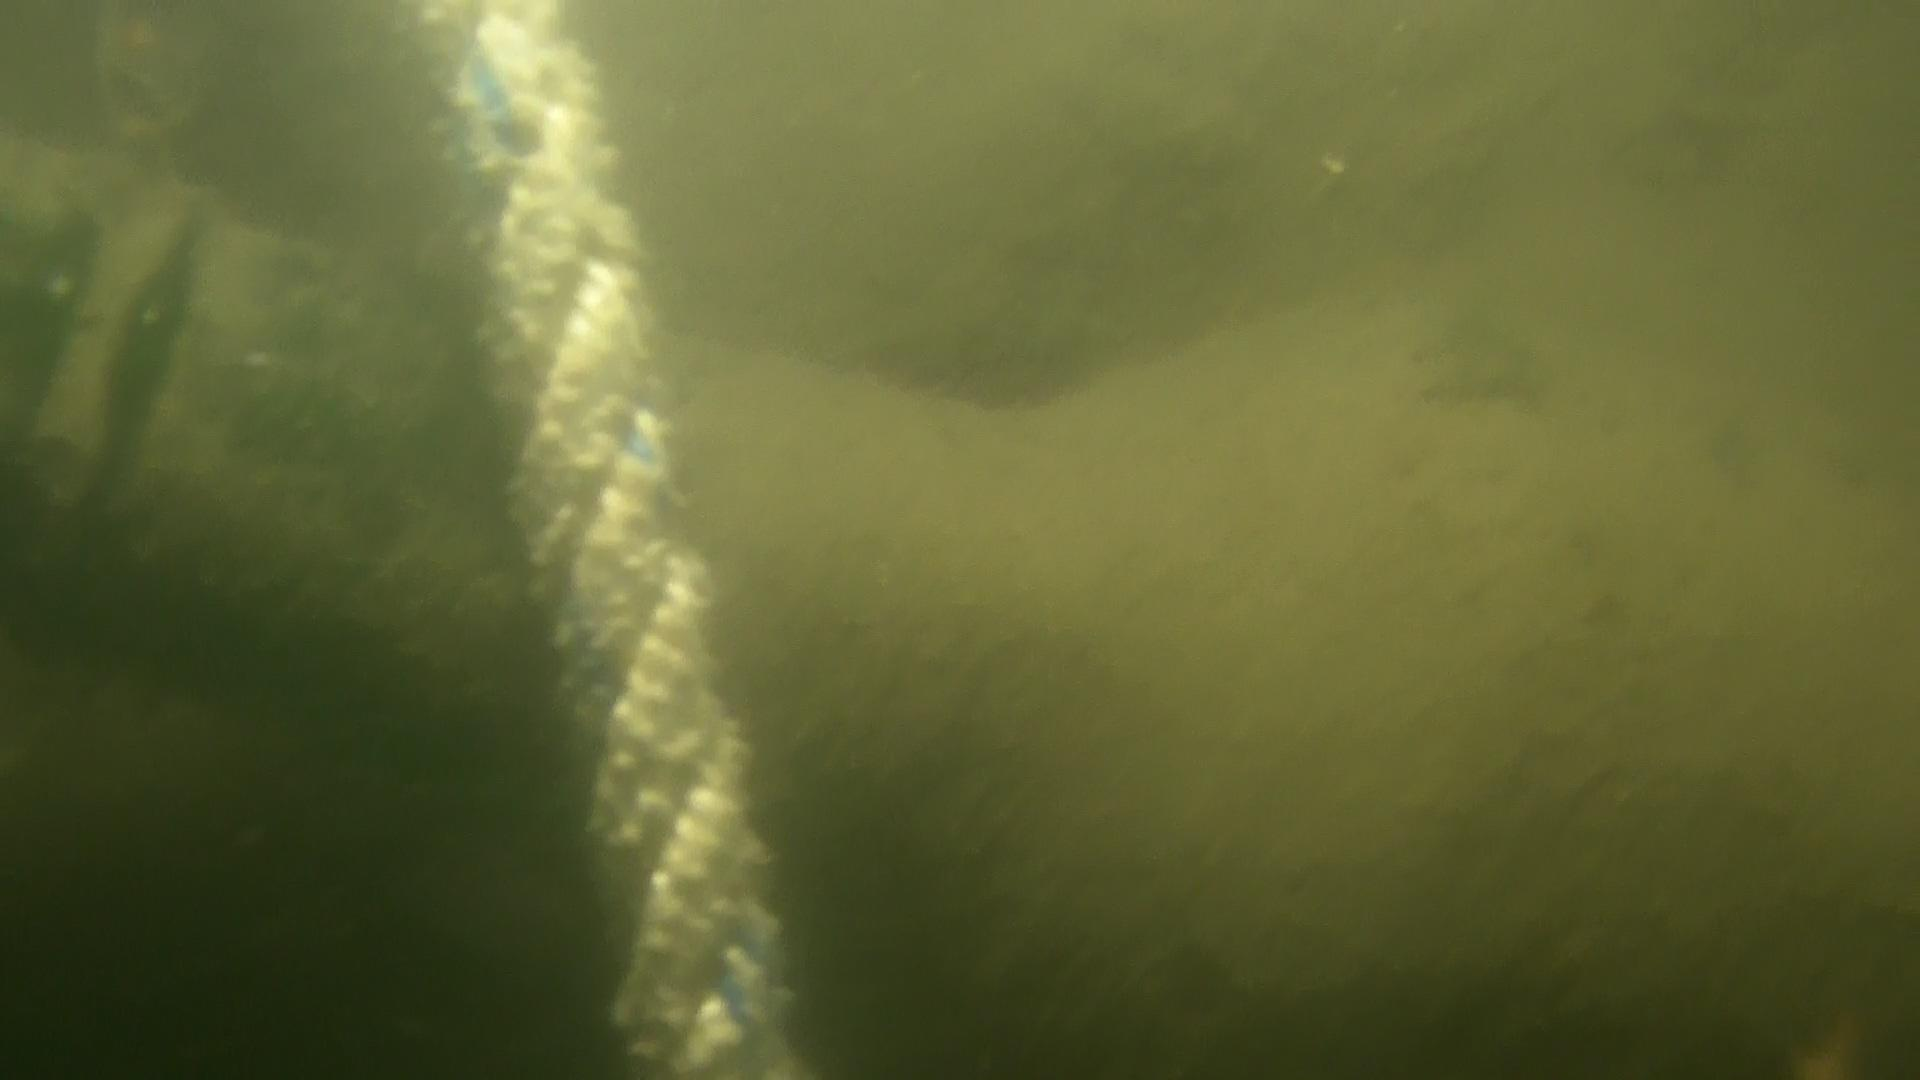rope: (405, 0, 808, 1080)
